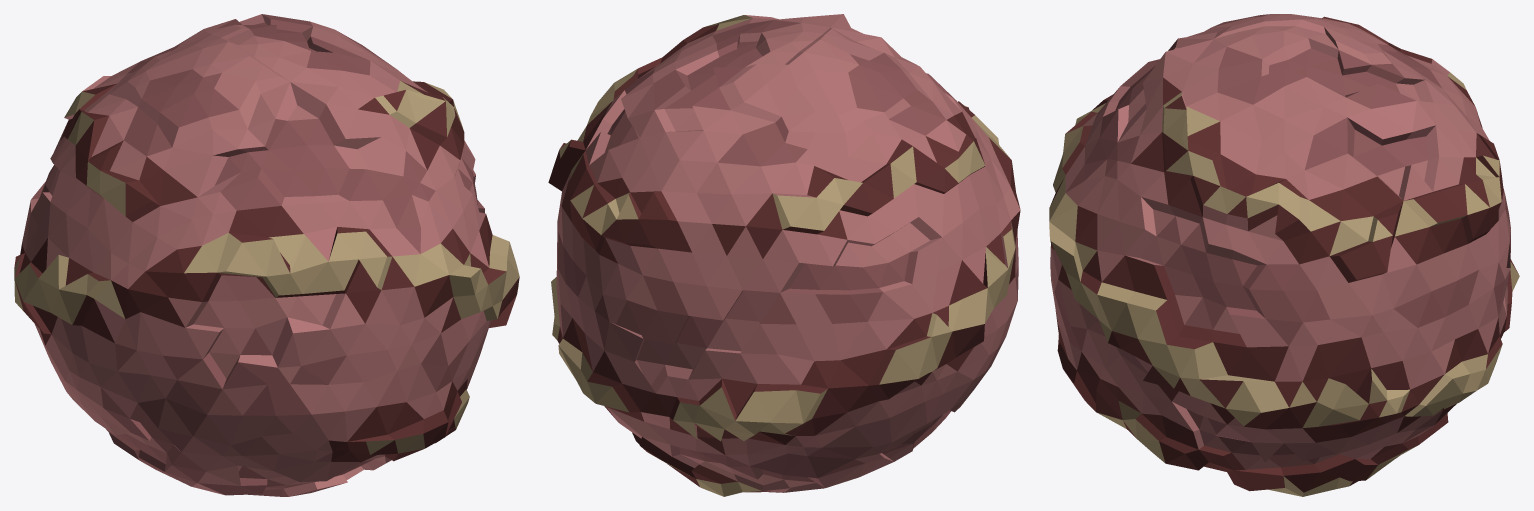
Rendered from SM_planet4.fbx.
3 renders of one model, left to right at view 1: azimuth 30°, elevation 25°; view 2: azimuth 150°, elevation 25°; view 3: azimuth 270°, elevation 25°, orthographic. The views are drawn at different scales.
Parts seen in each view (by area): view 1: SM_planet4; view 2: SM_planet4; view 3: SM_planet4.
Part boxes in pixels (left/top/right/bottom): SM_planet4: left=14, top=14, right=519, bottom=496; SM_planet4: left=548, top=14, right=1020, bottom=496; SM_planet4: left=1049, top=14, right=1519, bottom=496.
Size of the model in its own units: 28.16 by 26.66 by 26.7.
